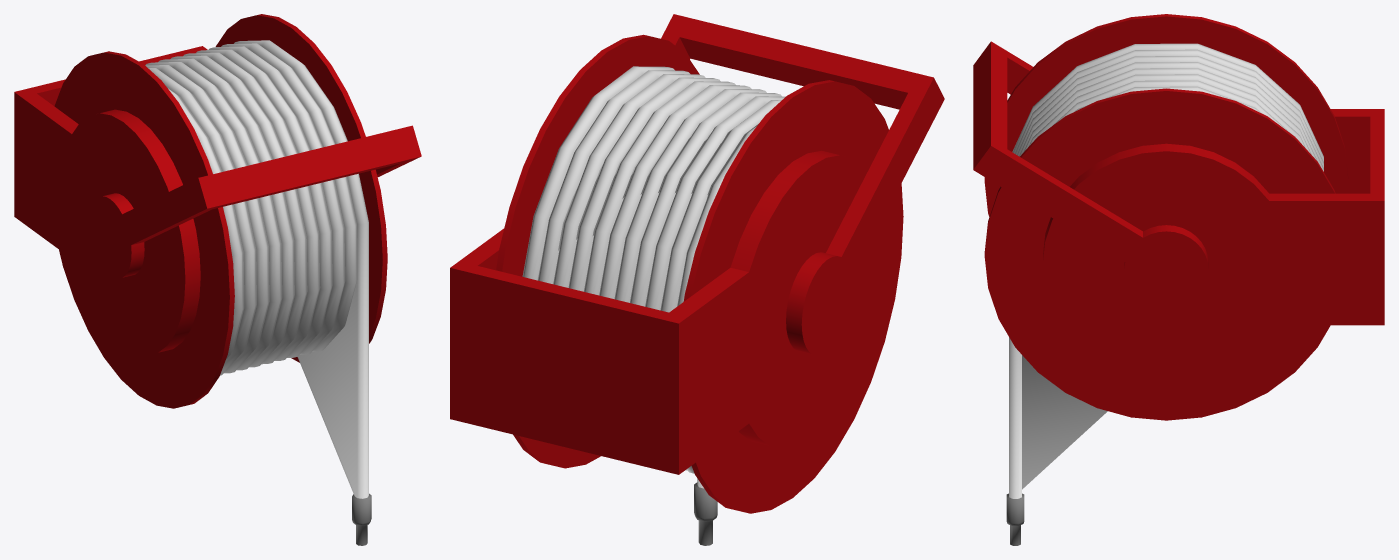
The picture shows the model from 3 angles, left to right: view 1: azimuth 30°, elevation 25°; view 2: azimuth 150°, elevation 25°; view 3: azimuth 270°, elevation 25°; orthographic projection. The views are drawn at different scales.
Parts seen in each view (by area): view 1: S-75; view 2: S-75; view 3: S-75.
Part boxes in pixels (<box>): S-75: <box>14,14,421,545</box>; S-75: <box>450,14,944,545</box>; S-75: <box>973,14,1384,545</box>.
Size of the model in its own units: 25.49 by 52.07 by 42.42.
